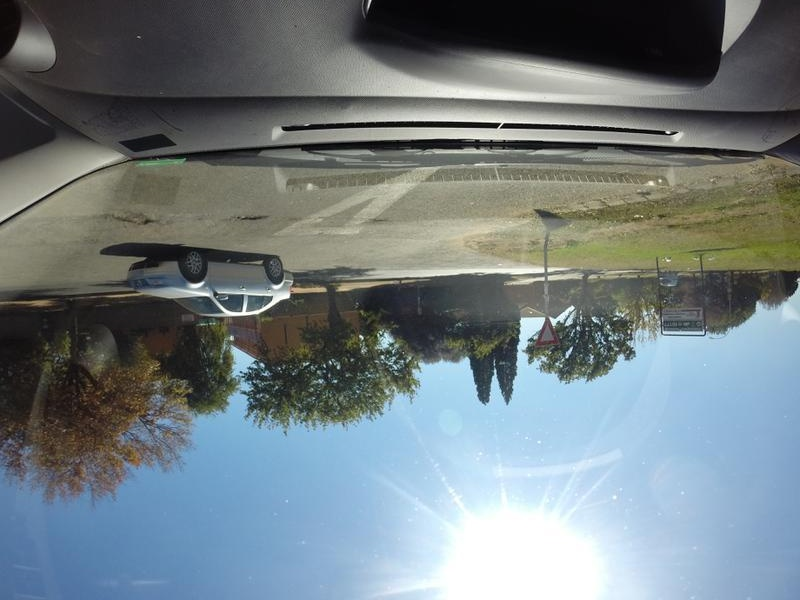pothole: (106, 208, 160, 228), (353, 213, 388, 226), (229, 211, 268, 222)
